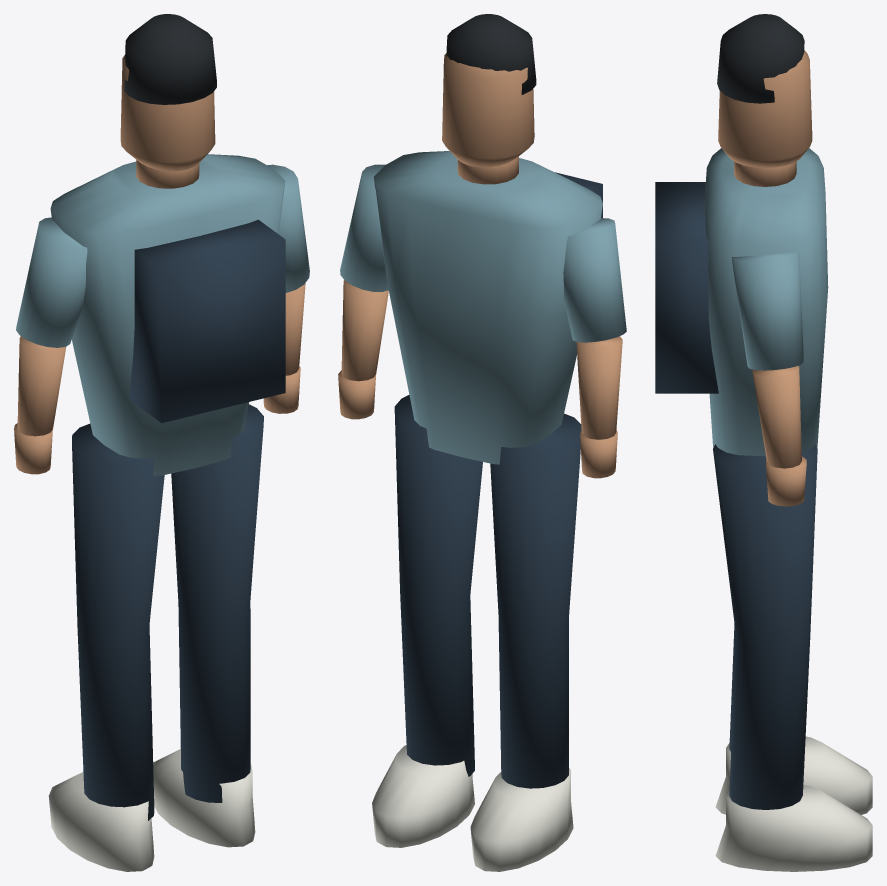
Rendered from pedestrian.glb.
The picture shows the model from 3 angles, left to right: view 1: azimuth 30°, elevation 25°; view 2: azimuth 150°, elevation 25°; view 3: azimuth 270°, elevation 25°; orthographic projection. The views are drawn at different scales.
Visible parts, largest first — view 1: person_body_shirt, person_leg_-1_trousers, person_body_trousers, person_leg_1_trousers, person_body_skin, person_body_hair, person_leg_-1_shoes, person_arm_-1_shirt, person_leg_1_shoes, person_arm_-1_skin, person_arm_1_shirt, person_arm_1_skin; view 2: person_body_shirt, person_leg_-1_trousers, person_leg_1_trousers, person_body_skin, person_leg_-1_shoes, person_leg_1_shoes, person_arm_-1_shirt, person_arm_-1_skin, person_arm_1_skin, person_body_hair, person_arm_1_shirt; view 3: person_leg_1_trousers, person_body_shirt, person_body_trousers, person_leg_1_shoes, person_body_skin, person_arm_1_shirt, person_body_hair, person_arm_1_skin, person_leg_-1_shoes.
Part boxes in pixels (<box>): person_body_shirt: <box>50,154,285,476</box>; person_leg_-1_trousers: <box>72,423,164,820</box>; person_body_trousers: <box>129,219,285,423</box>; person_leg_1_trousers: <box>171,404,263,802</box>; person_body_skin: <box>120,55,215,188</box>; person_body_hair: <box>124,14,216,104</box>; person_leg_-1_shoes: <box>48,772,154,871</box>; person_arm_-1_shirt: <box>16,217,87,347</box>; person_leg_1_shoes: <box>153,749,255,847</box>; person_arm_-1_skin: <box>14,336,66,474</box>; person_arm_1_shirt: <box>267,164,309,292</box>; person_arm_1_skin: <box>263,283,305,413</box>; person_body_shirt: <box>374,151,602,464</box>; person_leg_-1_trousers: <box>490,413,581,788</box>; person_leg_1_trousers: <box>394,395,482,776</box>; person_body_skin: <box>442,53,534,184</box>; person_leg_-1_shoes: <box>470,767,573,871</box>; person_leg_1_shoes: <box>372,745,474,847</box>; person_arm_-1_shirt: <box>563,218,626,342</box>; person_arm_-1_skin: <box>576,336,622,478</box>; person_arm_1_skin: <box>338,280,388,419</box>; person_body_hair: <box>446,14,536,94</box>; person_arm_1_shirt: <box>340,164,388,291</box>; person_leg_1_trousers: <box>713,444,817,809</box>; person_body_shirt: <box>704,148,828,456</box>; person_body_trousers: <box>655,182,718,393</box>; person_leg_1_shoes: <box>715,784,872,871</box>; person_body_skin: <box>718,50,812,186</box>; person_arm_1_shirt: <box>731,251,803,370</box>; person_body_hair: <box>717,14,804,103</box>; person_arm_1_skin: <box>752,366,806,506</box>; person_leg_-1_shoes: <box>715,736,872,814</box>.
Size of the model in its own units: 0.6251 by 1.71 by 0.415.
